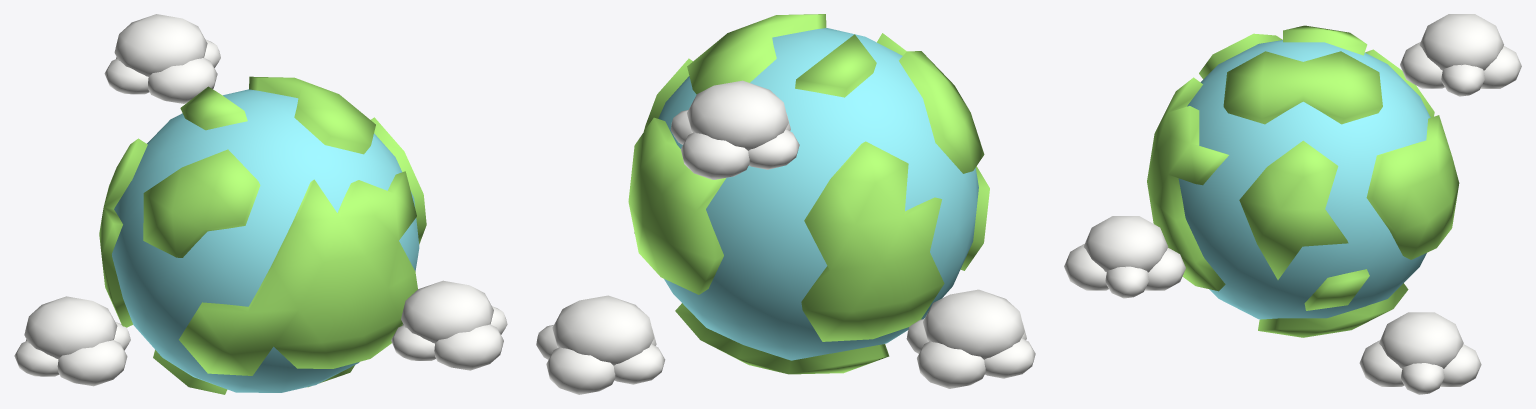
File: cuteplanet_smooth.gltf
3 renders of one model, left to right at view 1: azimuth 30°, elevation 25°; view 2: azimuth 150°, elevation 25°; view 3: azimuth 270°, elevation 25°, orthographic. The views are drawn at different scales.
Parts seen in each view (by area): view 1: Icosphere, Icosphere.001, Icosphere.009, Icosphere.021, Icosphere.015, Icosphere.010, Icosphere.022, Icosphere.016, Icosphere.017, Icosphere.013, Icosphere.023; view 2: Icosphere, Icosphere.001, Icosphere.003, Icosphere.009, Icosphere.015, Icosphere.002, Icosphere.014, Icosphere.008, Icosphere.017, Icosphere.013, Icosphere.005, Icosphere.019 (+2 smaller); view 3: Icosphere, Icosphere.001, Icosphere.003, Icosphere.015, Icosphere.021, Icosphere.022, Icosphere.016, Icosphere.004, Icosphere.007, Icosphere.019, Icosphere.025, Icosphere.014 (+2 smaller).
Part boxes in pixels (bbox=[...]): Icosphere: bbox=[99, 76, 426, 394]; Icosphere.001: bbox=[112, 89, 419, 392]; Icosphere.009: bbox=[24, 296, 117, 358]; Icosphere.021: bbox=[401, 280, 493, 343]; Icosphere.015: bbox=[114, 14, 207, 76]; Icosphere.010: bbox=[57, 340, 127, 386]; Icosphere.022: bbox=[434, 324, 503, 370]; Icosphere.016: bbox=[148, 57, 217, 103]; Icosphere.017: bbox=[104, 58, 149, 94]; Icosphere.013: bbox=[14, 341, 59, 376]; Icosphere.023: bbox=[391, 325, 435, 360]; Icosphere: bbox=[628, 14, 989, 374]; Icosphere.001: bbox=[658, 28, 978, 360]; Icosphere.003: bbox=[552, 295, 654, 365]; Icosphere.009: bbox=[923, 289, 1024, 359]; Icosphere.015: bbox=[687, 80, 788, 150]; Icosphere.002: bbox=[546, 347, 615, 394]; Icosphere.014: bbox=[681, 132, 749, 179]; Icosphere.008: bbox=[917, 341, 985, 388]; Icosphere.017: bbox=[748, 129, 799, 169]; Icosphere.013: bbox=[984, 338, 1035, 378]; Icosphere.005: bbox=[613, 344, 665, 384]; Icosphere.019: bbox=[670, 110, 691, 144]; Icosphere: bbox=[1147, 25, 1459, 337]; Icosphere.001: bbox=[1178, 40, 1430, 319]; Icosphere.003: bbox=[1379, 312, 1463, 368]; Icosphere.015: bbox=[1419, 14, 1503, 70]; Icosphere.021: bbox=[1083, 216, 1168, 272]; Icosphere.022: bbox=[1064, 243, 1108, 290]; Icosphere.016: bbox=[1400, 42, 1444, 88]; Icosphere.004: bbox=[1359, 340, 1404, 386]; Icosphere.007: bbox=[1401, 363, 1444, 394]; Icosphere.019: bbox=[1441, 64, 1484, 96]; Icosphere.025: bbox=[1105, 266, 1148, 298]; Icosphere.014: bbox=[1480, 46, 1521, 88].
Size of the model in its own units: 3.23 by 2.4 by 3.33.
